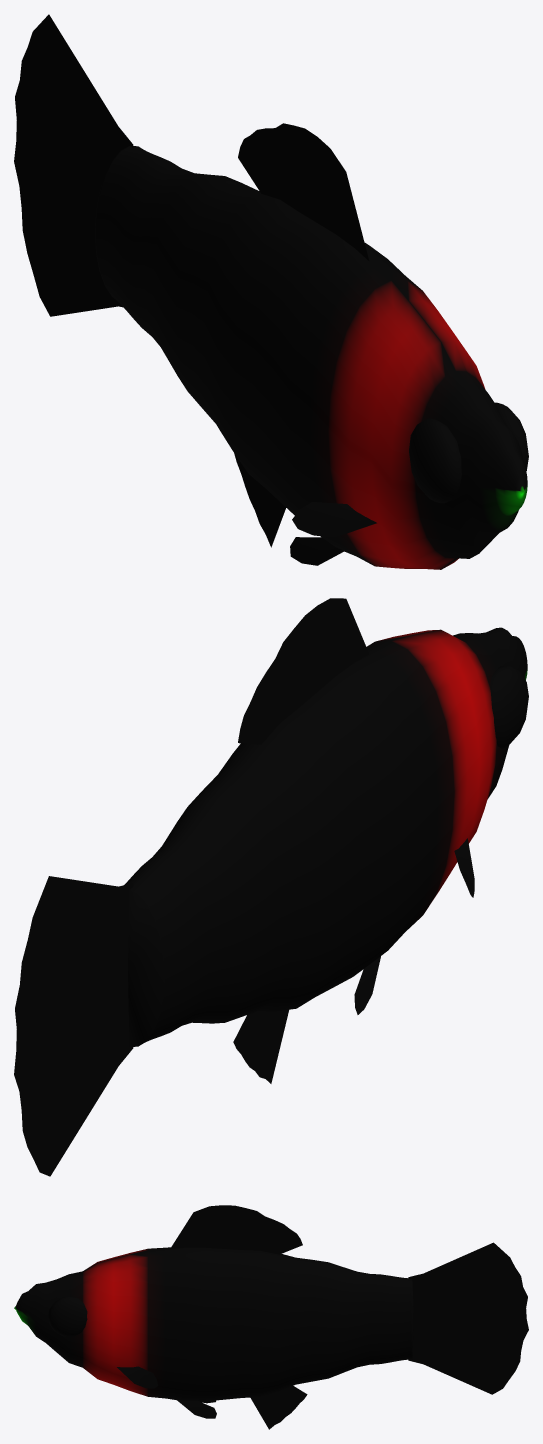
File: molly.glb
3 views of the same model, one above another, from view 1: azimuth 30°, elevation 25°; view 2: azimuth 150°, elevation 25°; view 3: azimuth 270°, elevation 25° (orthographic). The views are drawn at different scales.
Visible parts, largest first — view 1: molly_body, molly_caudal, molly_dorsal, molly_eyeL, molly_pectoralL, molly_anal, molly_pelvicL, molly_eyeR; view 2: molly_body, molly_caudal, molly_dorsal, molly_anal, molly_eyeL, molly_pelvicL; view 3: molly_body, molly_caudal, molly_dorsal, molly_anal, molly_eyeR, molly_pectoralR, molly_pelvicR.
Part boxes in pixels (bbox=[...]): molly_body: bbox=[95, 146, 527, 569]; molly_caudal: bbox=[14, 14, 133, 316]; molly_dorsal: bbox=[238, 123, 369, 260]; molly_eyeL: bbox=[409, 418, 461, 503]; molly_pectoralL: bbox=[292, 502, 376, 537]; molly_anal: bbox=[234, 453, 285, 547]; molly_pelvicL: bbox=[290, 537, 344, 565]; molly_eyeR: bbox=[495, 402, 528, 470]; molly_body: bbox=[124, 627, 527, 1046]; molly_caudal: bbox=[14, 876, 133, 1176]; molly_dorsal: bbox=[238, 598, 369, 744]; molly_anal: bbox=[233, 1009, 288, 1083]; molly_eyeL: bbox=[490, 665, 528, 748]; molly_pelvicL: bbox=[354, 956, 380, 1014]; molly_body: bbox=[14, 1247, 413, 1401]; molly_caudal: bbox=[408, 1242, 528, 1394]; molly_dorsal: bbox=[170, 1205, 302, 1254]; molly_anal: bbox=[250, 1386, 307, 1429]; molly_eyeR: bbox=[48, 1296, 87, 1336]; molly_pectoralR: bbox=[117, 1366, 158, 1388]; molly_pelvicR: bbox=[176, 1399, 216, 1418].
Bounding box in the file's own units: 0.2617 × 0.6222 × 1.29.
